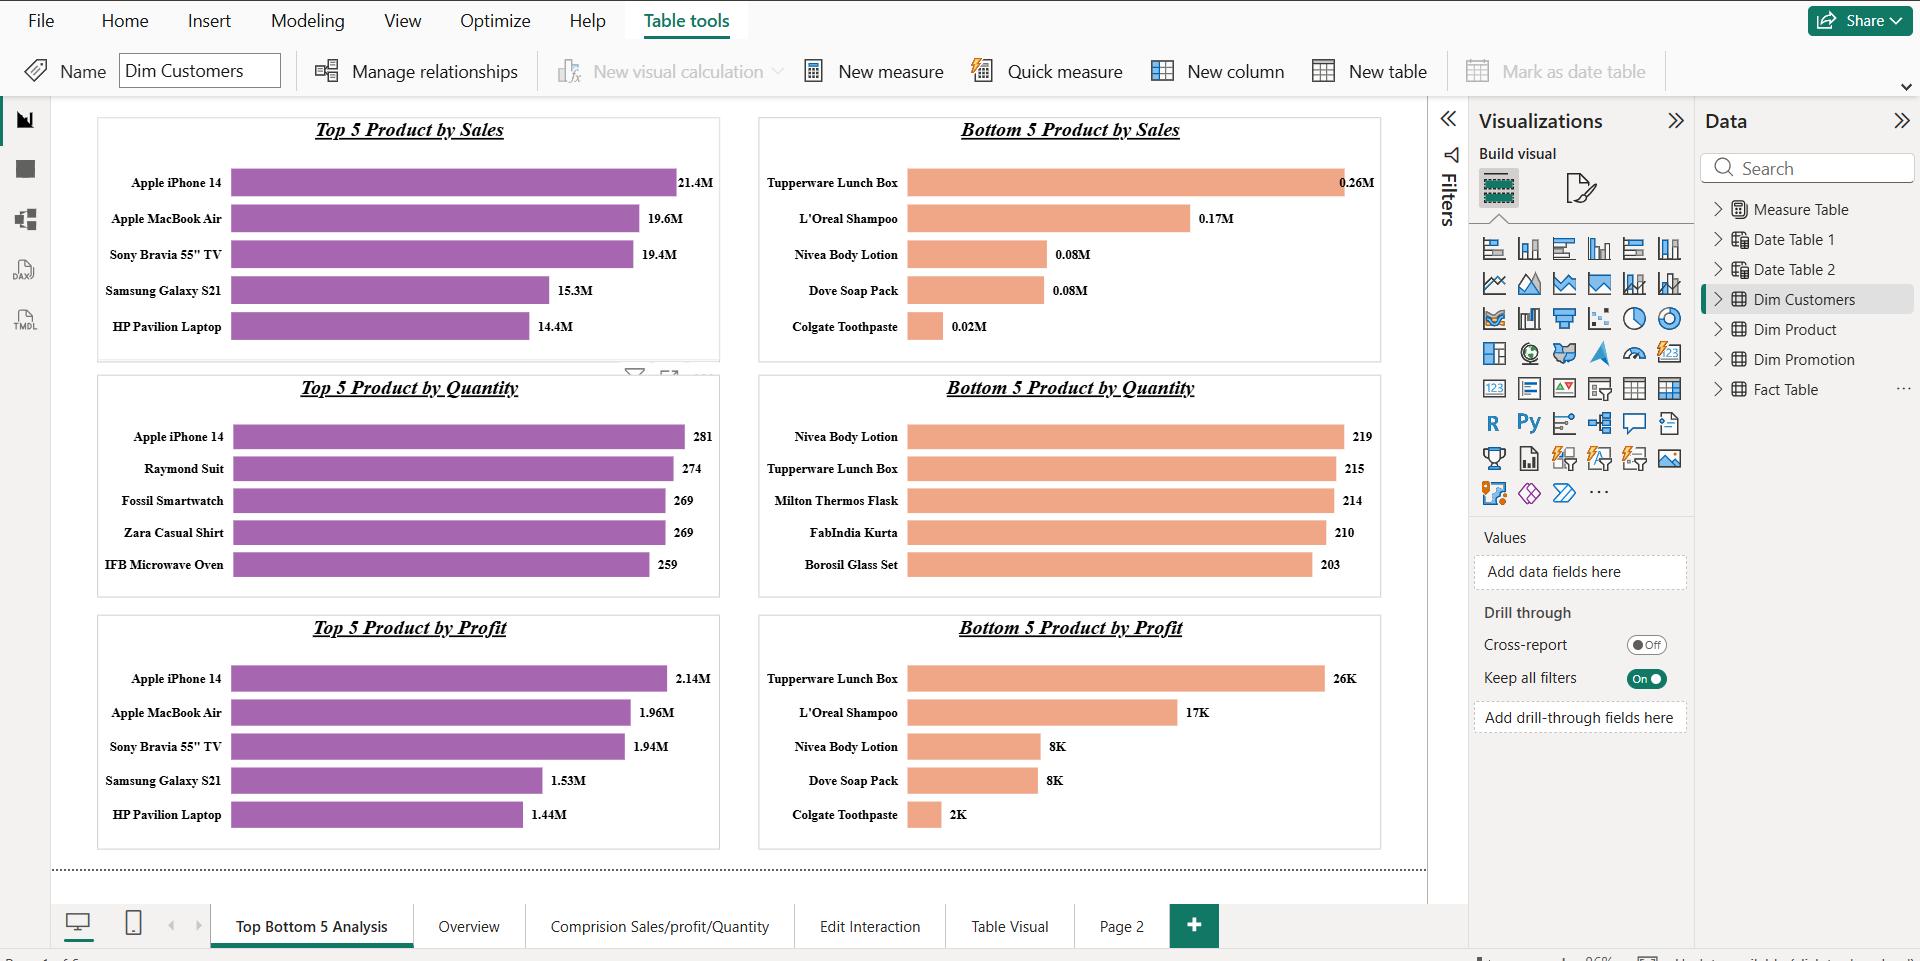

Layout of this report page (visuals, bound fields, positions):
{"tool":"powerbi","page":{"name":"Top Bottom 5 Analysis","canvas":[1280,720],"ordinal":0},"visuals":[{"type":"barChart","title":"Top 5 Product by Sales","fields":{"Category":["Dim Product.Product Name"],"Y":["Sum(Fact Table.Net Sales)"]},"box":[42.5,19.2,579.1,227.8],"z":0},{"type":"barChart","title":"Bottom 5 Product by Sales","fields":{"Category":["Dim Product.Product Name"],"Y":["Sum(Fact Table.Net Sales)"]},"box":[658.7,19.2,579.1,227.8],"z":1000},{"type":"barChart","title":"Top 5 Product by Quantity","fields":{"Category":["Dim Product.Product Name"],"Y":["Sum(Fact Table.Units Sold)"]},"box":[42.5,259.3,579.1,207.2],"z":2000},{"type":"barChart","title":"Bottom 5 Product by Quantity","fields":{"Category":["Dim Product.Product Name"],"Y":["Sum(Fact Table.Units Sold)"]},"box":[658.7,259.3,579.1,207.2],"z":3000},{"type":"barChart","title":"Top 5 Product by Profit","fields":{"Category":["Dim Product.Product Name"],"Y":["Sum(Fact Table.Profit)"]},"box":[42.5,483,579.1,218.2],"z":4000},{"type":"barChart","title":"Bottom 5 Product by Profit","fields":{"Category":["Dim Product.Product Name"],"Y":["Sum(Fact Table.Profit)"]},"box":[658.7,483,579.1,218.2],"z":5000}]}

Visuals, with their boxes on the page's 1280x720 design canvas (x1, y1, x2, y2). These are canvas units, not pixel positions in the 1920x961 screenshot, which may show the page scaled, cropped or inside an application window:
"Top 5 Product by Sales" barChart: x1=42 y1=19 x2=622 y2=247
"Bottom 5 Product by Sales" barChart: x1=659 y1=19 x2=1238 y2=247
"Top 5 Product by Quantity" barChart: x1=42 y1=259 x2=622 y2=466
"Bottom 5 Product by Quantity" barChart: x1=659 y1=259 x2=1238 y2=466
"Top 5 Product by Profit" barChart: x1=42 y1=483 x2=622 y2=701
"Bottom 5 Product by Profit" barChart: x1=659 y1=483 x2=1238 y2=701
